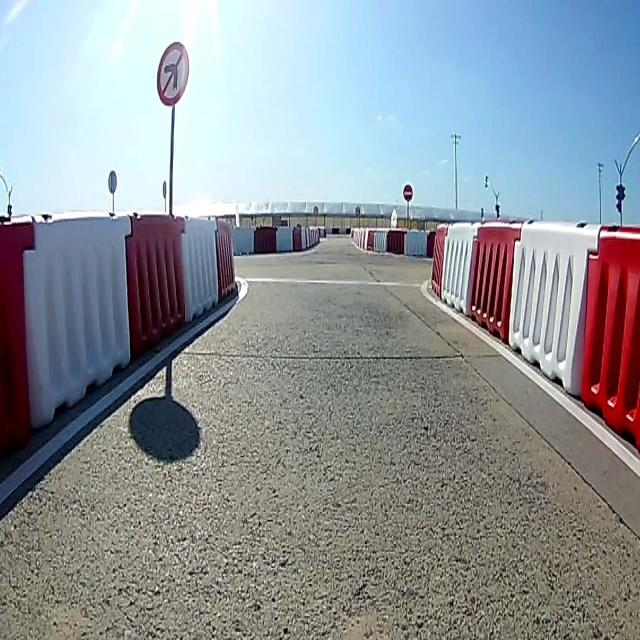girisyok: (404, 181, 415, 202)
soladonulmez: (156, 40, 188, 109)
